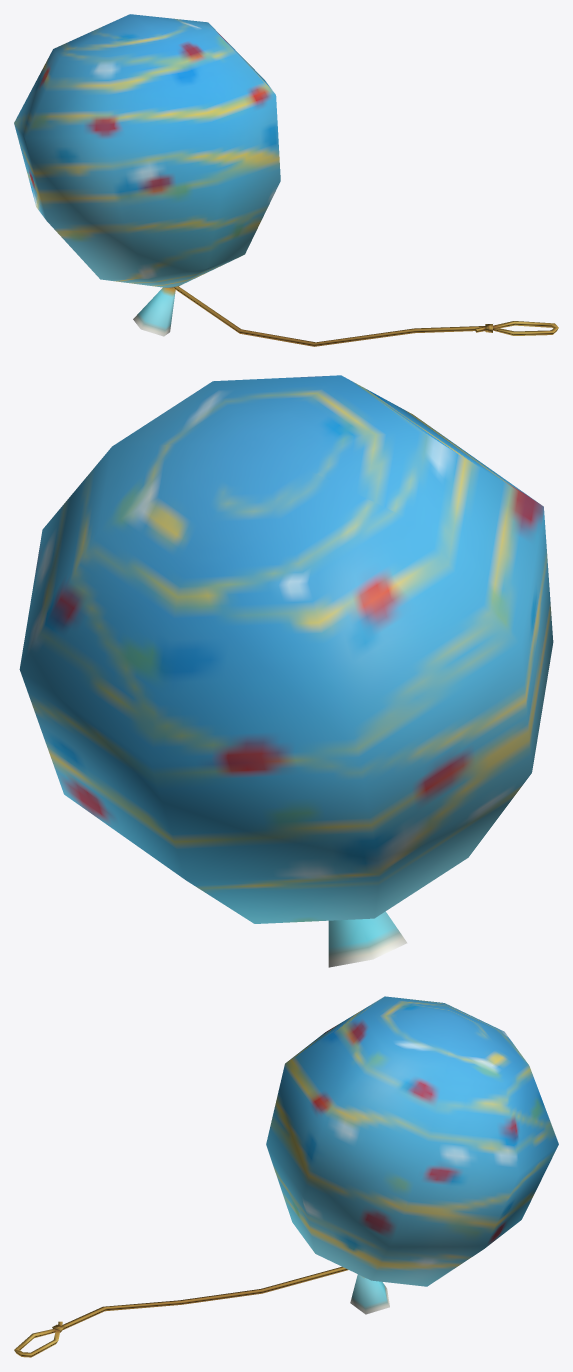
Rendered from jsf_WaterBalloon_10_d.fbx.
3 views of the same model, one above another, from view 1: azimuth 30°, elevation 25°; view 2: azimuth 150°, elevation 25°; view 3: azimuth 270°, elevation 25° (orthographic). The views are drawn at different scales.
Parts seen in each view (by area): view 1: jsf_WaterBalloon_10_d; view 2: jsf_WaterBalloon_10_d; view 3: jsf_WaterBalloon_10_d.
Part boxes in pixels (x1,y1,x2,y2): jsf_WaterBalloon_10_d: [14, 14, 558, 346]; jsf_WaterBalloon_10_d: [19, 375, 553, 967]; jsf_WaterBalloon_10_d: [14, 996, 558, 1357].
Size of the model in its own units: 15.63 by 12.55 by 20.67.
